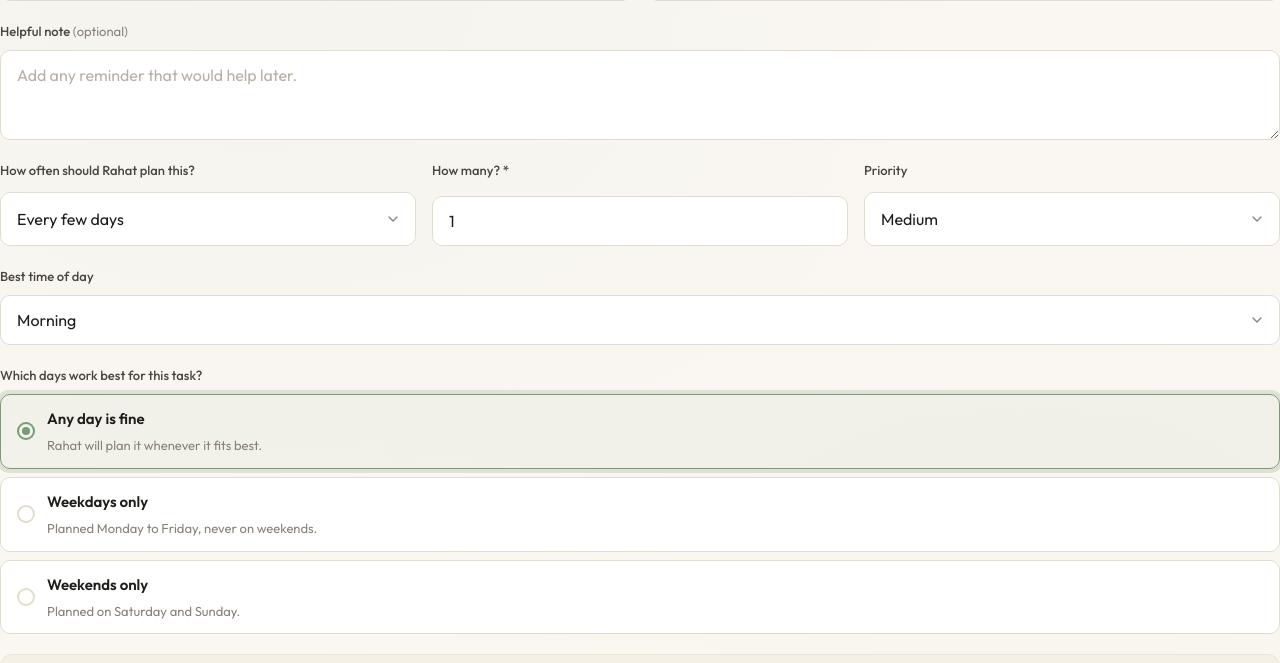
Test: TaskEditor › switches weekend tasks to weekly cadence capped at two
Click the button "Weekends only Planned on Saturday and Sunday.". click: (98, 584)
box: left=0, top=560, right=1279, bottom=634
(page scrolled)
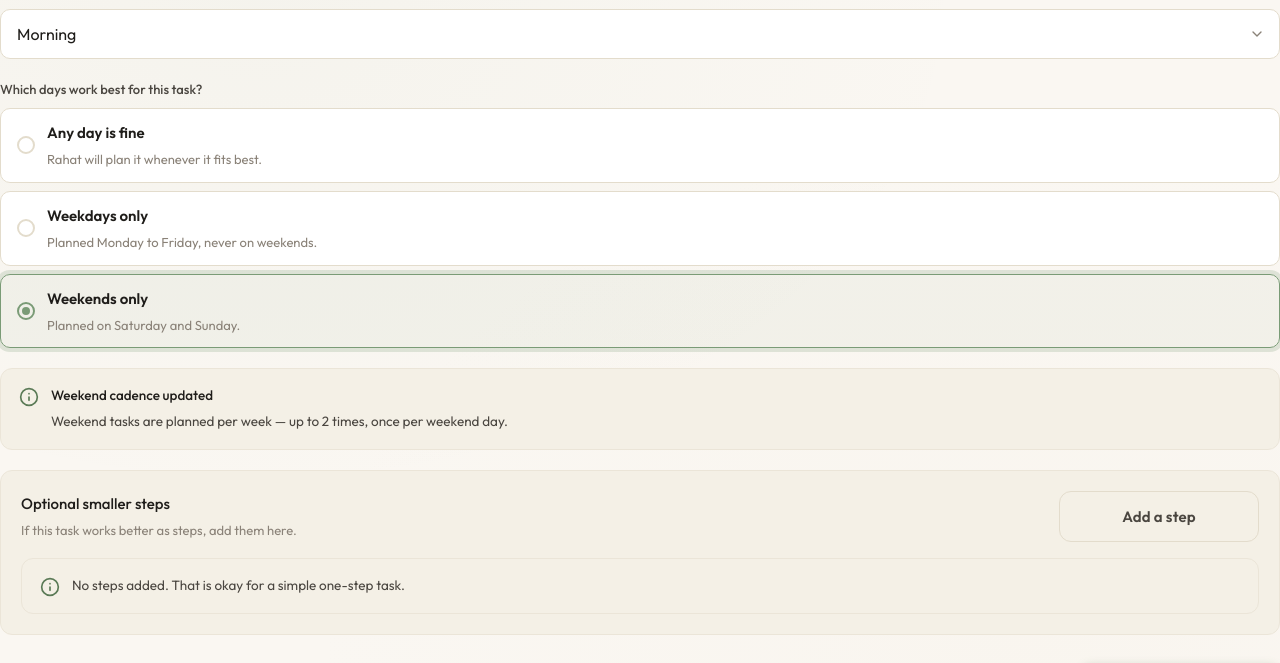
Expected: the text "Weekend tasks are planned per week — up to 2 times, once per weekend day." is shown, left=51, top=412, right=508, bottom=430
